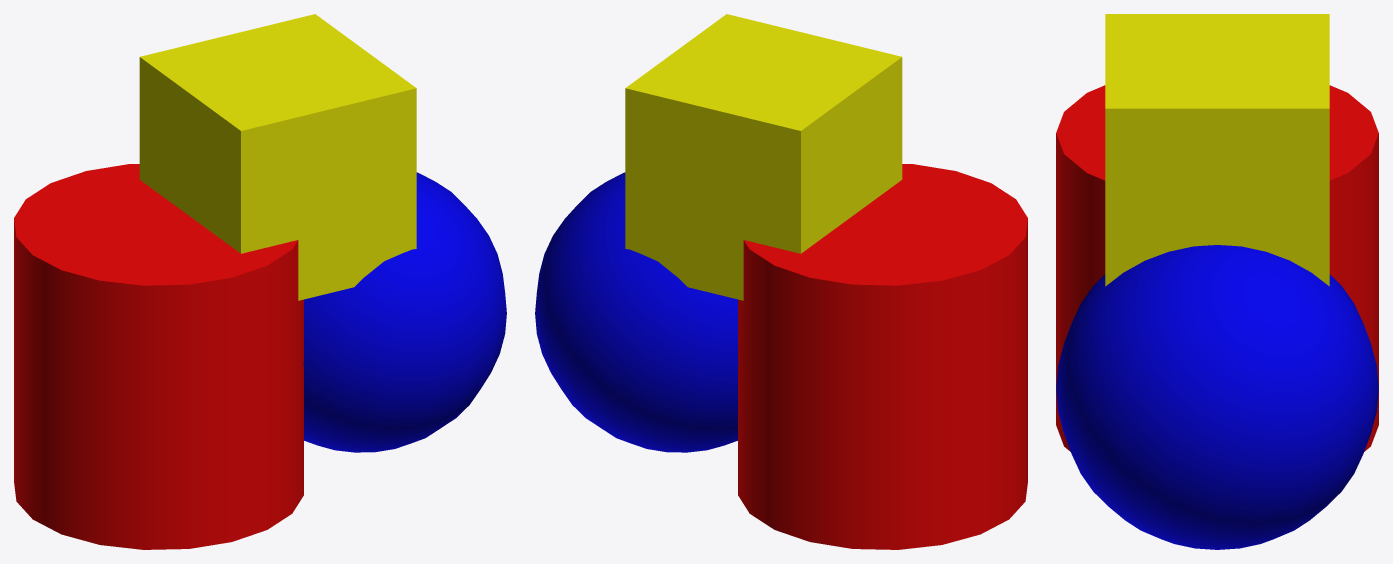
Rendered from Multi_Color_Combined_Objs.fbx.
3 views of the same model, side by side, from view 1: azimuth 30°, elevation 25°; view 2: azimuth 150°, elevation 25°; view 3: azimuth 270°, elevation 25° (orthographic). The views are drawn at different scales.
Parts seen in each view (by area): view 1: pCube2; view 2: pCube2; view 3: pCube2.
Part boxes in pixels (<box>): pCube2: <box>14,14,506,549</box>; pCube2: <box>535,14,1027,549</box>; pCube2: <box>1056,14,1378,549</box>.
Bounding box in the file's own units: 3.61 × 2.93 × 2.
